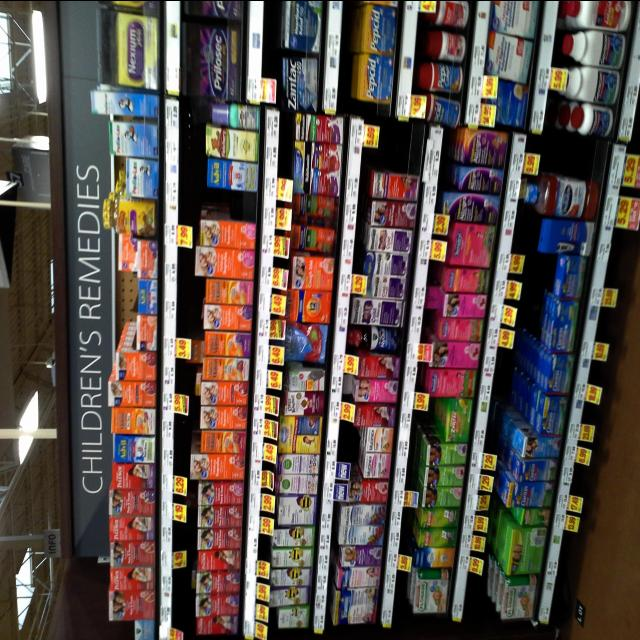empty_space: (373, 128, 419, 162), (198, 191, 257, 213), (548, 149, 604, 167)
